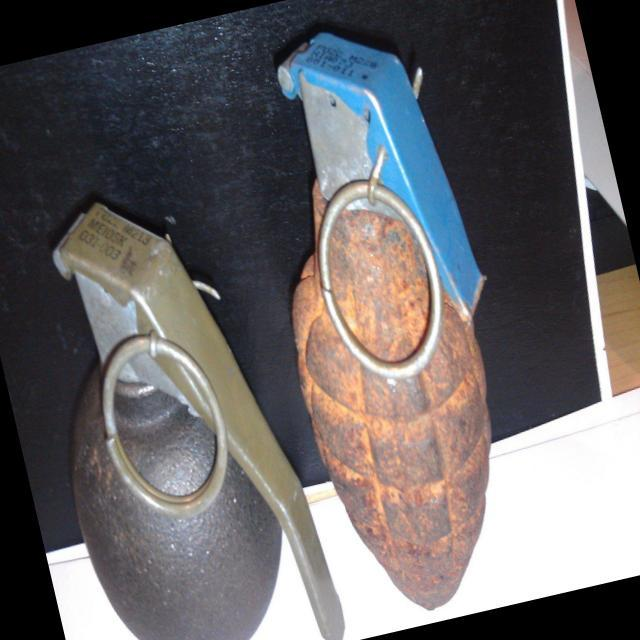grenade: (220, 6, 557, 632), (0, 163, 347, 640)
